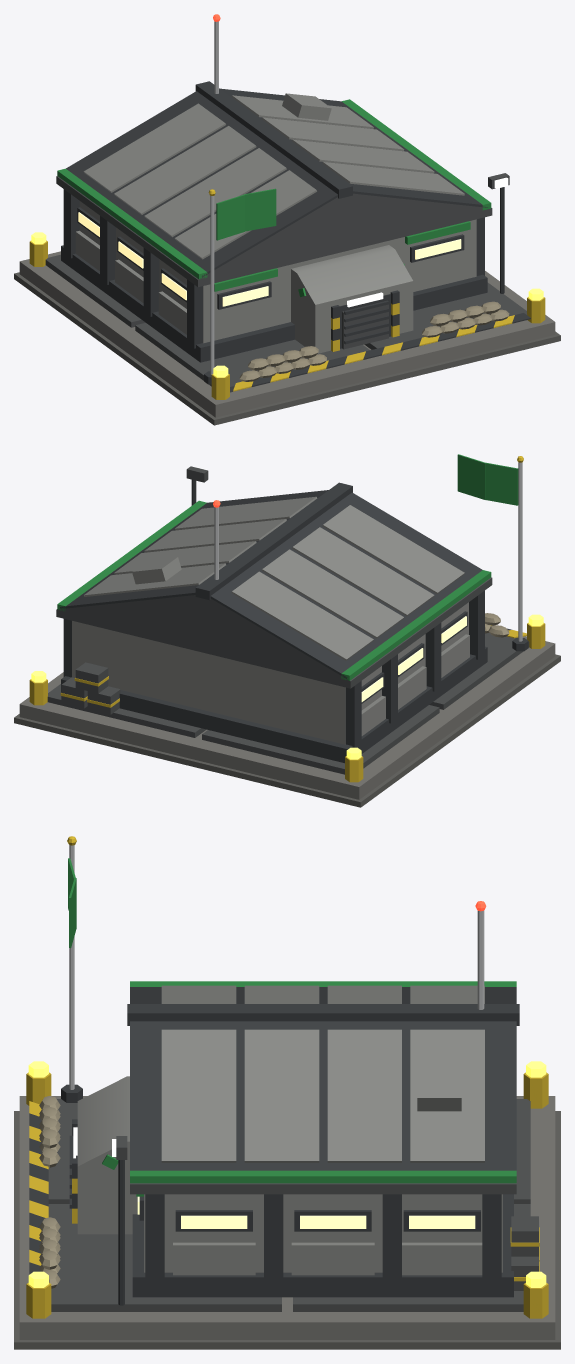
Rendered from barracks_lod1.glb.
The picture shows the model from 3 angles, top to bottom: view 1: azimuth 30°, elevation 25°; view 2: azimuth 150°, elevation 25°; view 3: azimuth 270°, elevation 25°; orthographic projection. The views are drawn at different scales.
Visible parts, largest first — view 1: Barracks_LOD1_Walls, Barracks_LOD1_Foundation, Barracks_LOD1_Details, Barracks_LOD1_Frame; view 2: Barracks_LOD1_Walls, Barracks_LOD1_Foundation, Barracks_LOD1_Frame, Barracks_LOD1_Details; view 3: Barracks_LOD1_Walls, Barracks_LOD1_Foundation, Barracks_LOD1_Details, Barracks_LOD1_Frame.
Boxes of the visible parts, x1=… form: Barracks_LOD1_Walls: x1=56, y1=81, x2=492, y2=353; Barracks_LOD1_Foundation: x1=14, y1=232, x2=560, y2=425; Barracks_LOD1_Details: x1=75, y1=14, x2=509, y2=384; Barracks_LOD1_Frame: x1=61, y1=189, x2=487, y2=362; Barracks_LOD1_Walls: x1=56, y1=482, x2=492, y2=744; Barracks_LOD1_Foundation: x1=14, y1=614, x2=560, y2=807; Barracks_LOD1_Frame: x1=61, y1=590, x2=487, y2=763; Barracks_LOD1_Details: x1=60, y1=454, x2=528, y2=735; Barracks_LOD1_Walls: x1=77, y1=981, x2=519, y2=1272; Barracks_LOD1_Foundation: x1=14, y1=1061, x2=560, y2=1349; Barracks_LOD1_Details: x1=39, y1=836, x2=539, y2=1305; Barracks_LOD1_Frame: x1=132, y1=1194, x2=513, y2=1297.
Bounding box in the file's own units: 1.98 × 1.33 × 1.98.
